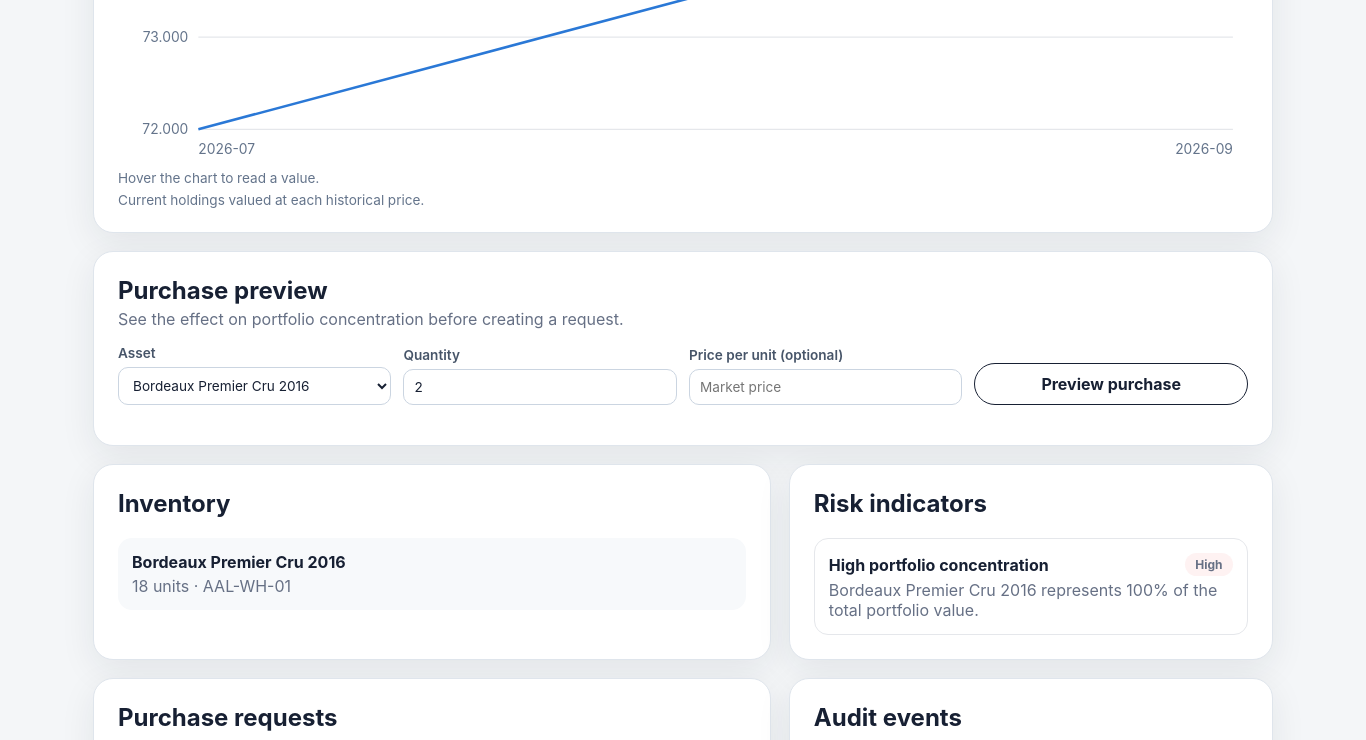
Test: Purchase preview › shows the API's validation message
The image size is (1366, 740).
(page scrolled)
Click the button "Preview purchase" at (1111, 384), box [974,363,1248,405]
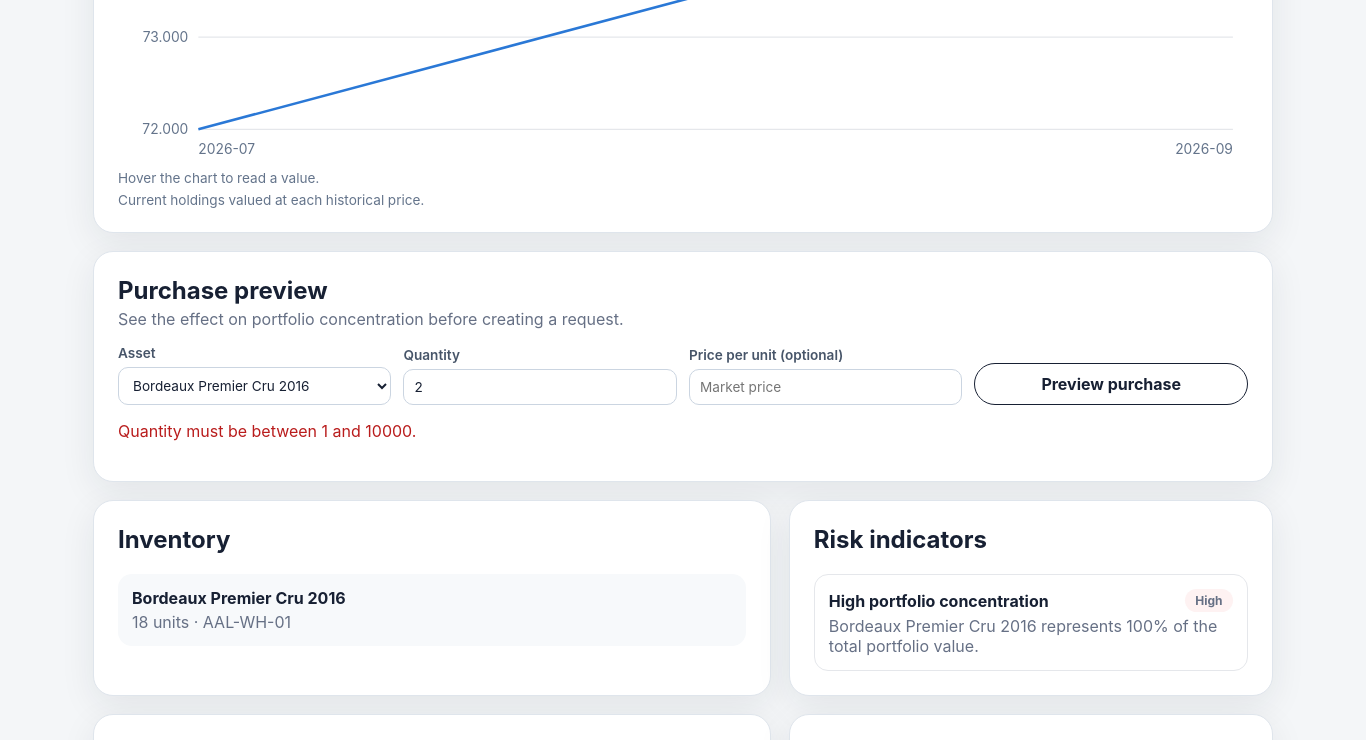
Check: the message reads "Quantity must be between 1 and 10000.", box [118,421,416,441]
